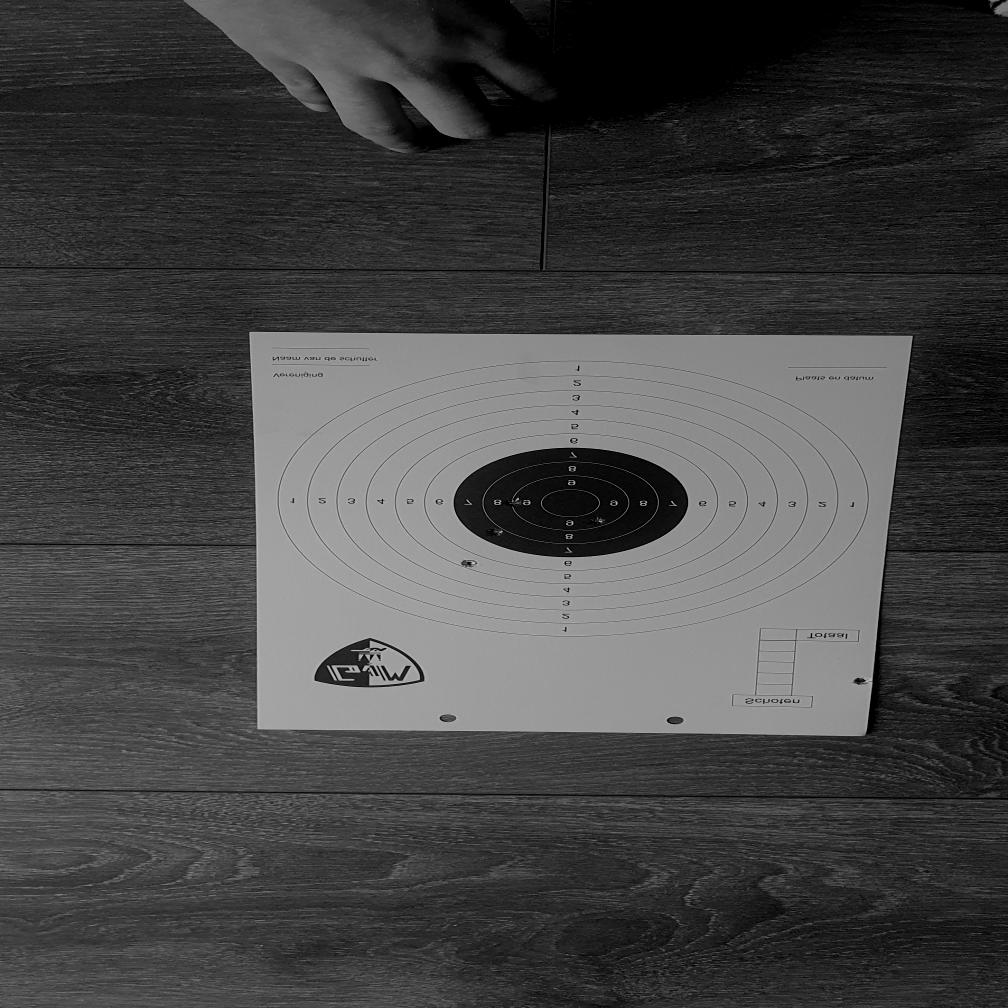0: (850, 677, 871, 686)
5: (459, 558, 481, 569)
7: (485, 528, 506, 538)
9: (588, 516, 609, 527), (500, 497, 523, 507)
Target: (275, 360, 874, 638)
black_contour: (453, 448, 690, 557)
